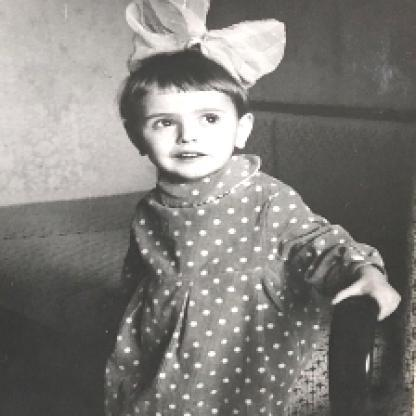child: (97, 1, 406, 415)
